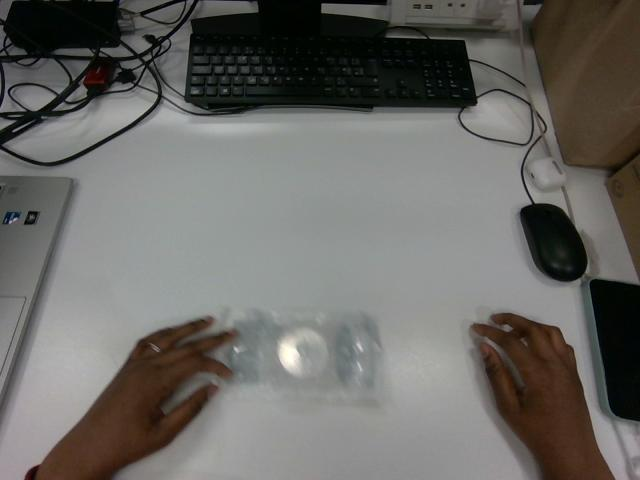gallipot: (223, 310, 380, 402)
